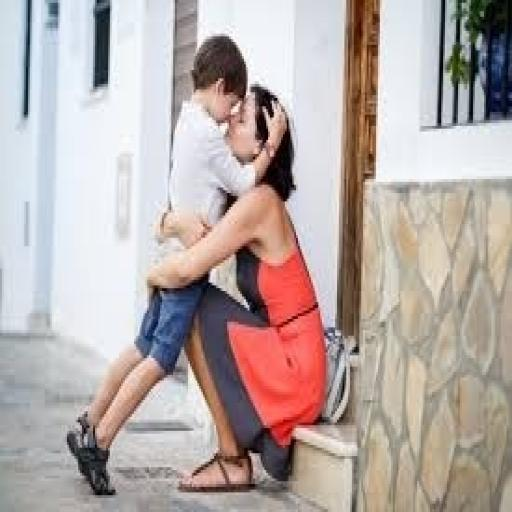hugging: (65, 31, 287, 498), (145, 81, 330, 495)
